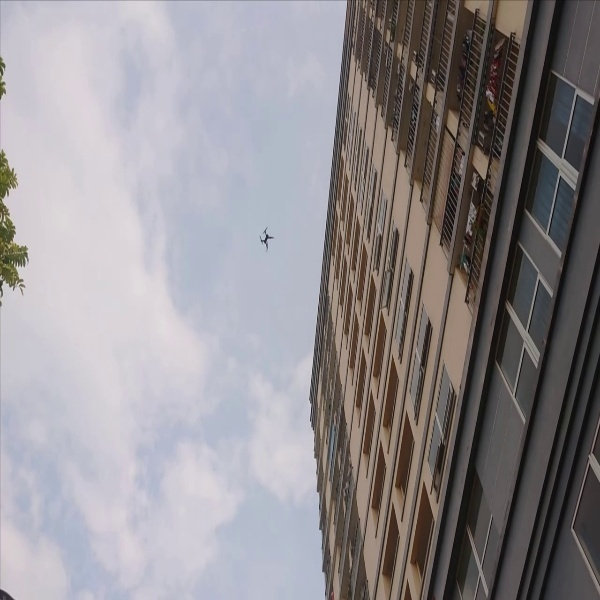drone: (255, 221, 280, 254)
